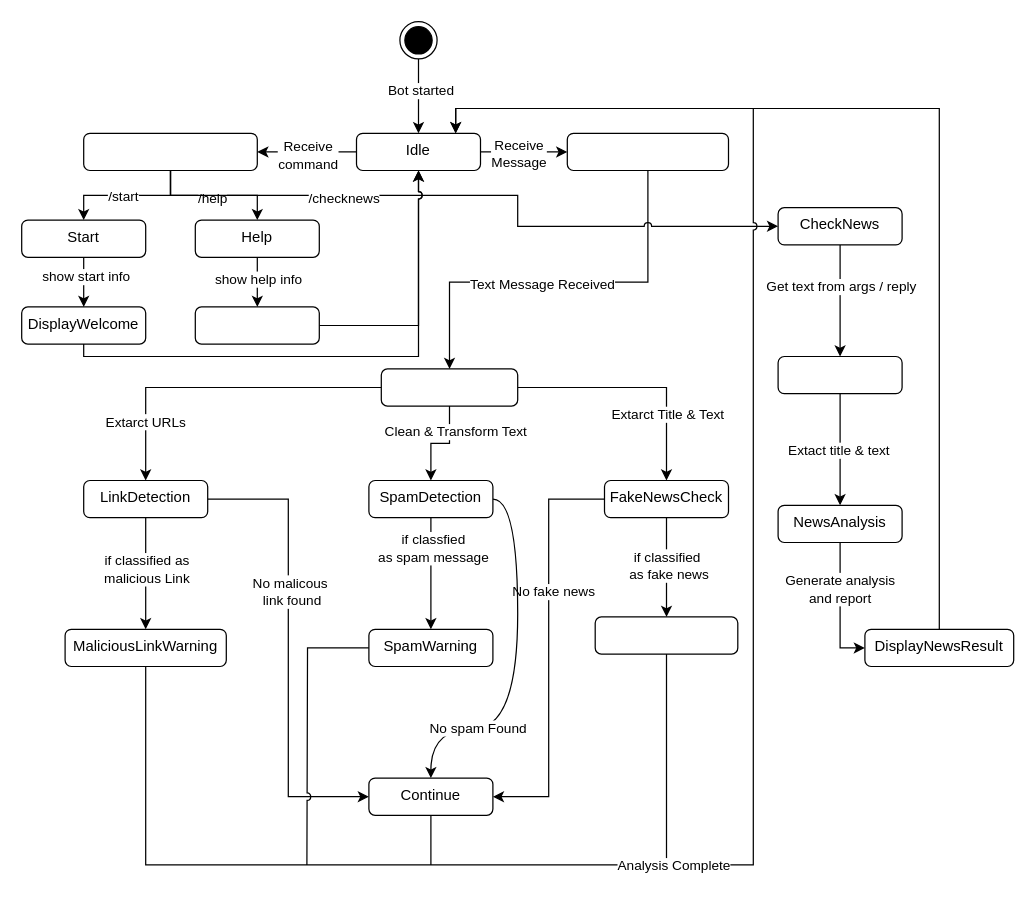
Some shapes in this 1035 by 897 pixel diagram are drawn without their labels. The centre of each missing label's shape, as x and y in pixels:
DisplayHelp: point 256,325
ExtactNewsText: point 839,374
FakeNewsWarning: point 666,635
MessageAnalysis: point 449,387
ProcessingCommand: point 169,151
ProcessingMessage: point 647,151
